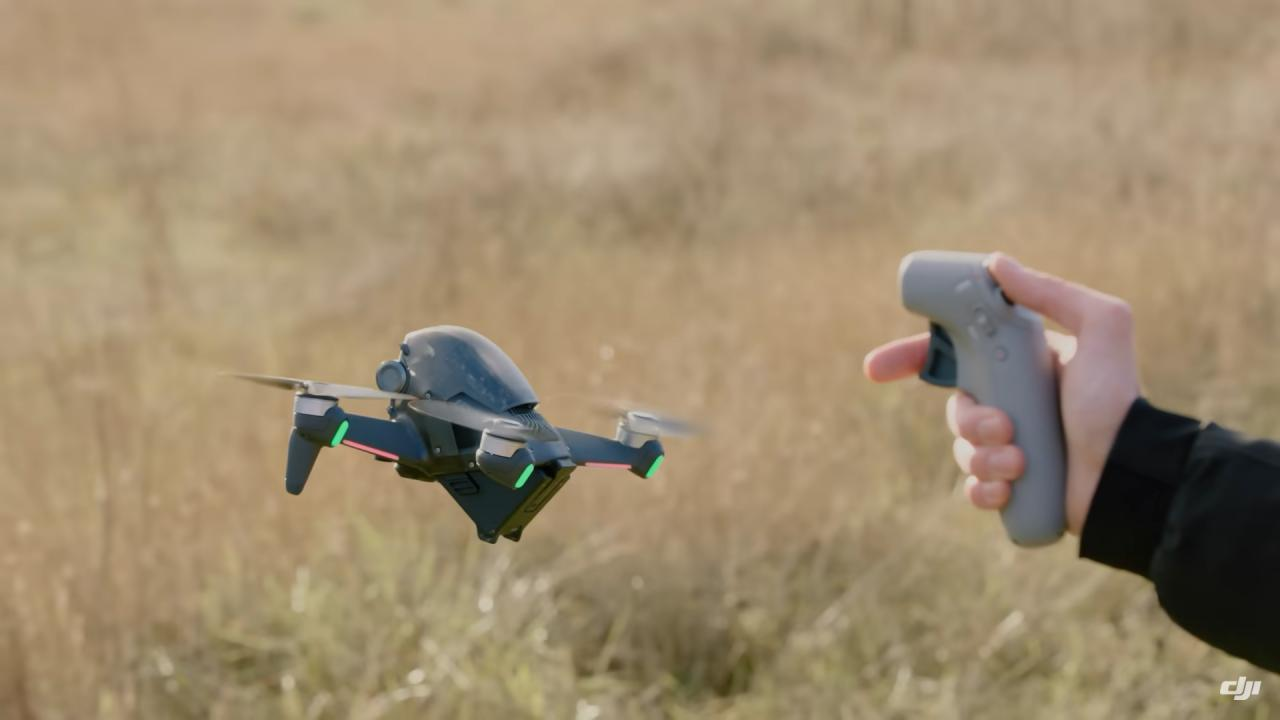Drone: (214, 310, 716, 552)
